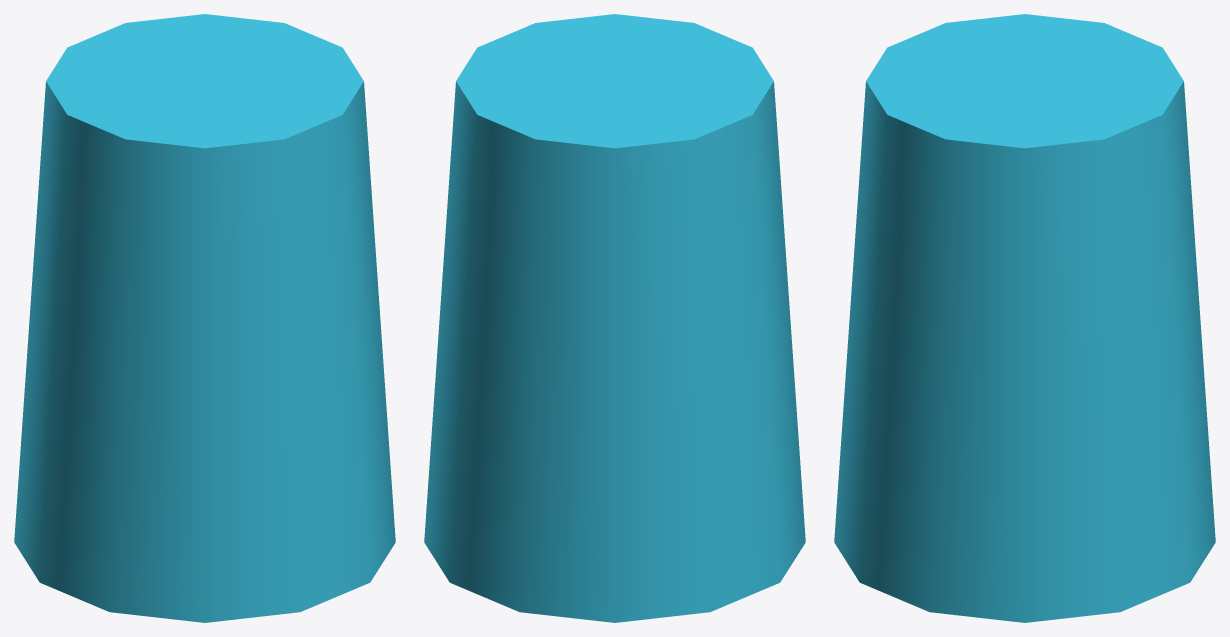
File: safety_shower.glb
3 renders of one model, left to right at view 1: azimuth 30°, elevation 25°; view 2: azimuth 150°, elevation 25°; view 3: azimuth 270°, elevation 25°, orthographic.
Parts seen in each view (by area): view 1: safety_shower-node; view 2: safety_shower-node; view 3: safety_shower-node.
Part boxes in pixels (left/top/right/bottom): safety_shower-node: left=14, top=14, right=395, bottom=622; safety_shower-node: left=424, top=14, right=805, bottom=622; safety_shower-node: left=834, top=14, right=1215, bottom=622.
Size of the model in its own units: 0.6 by 0.8 by 0.6.
